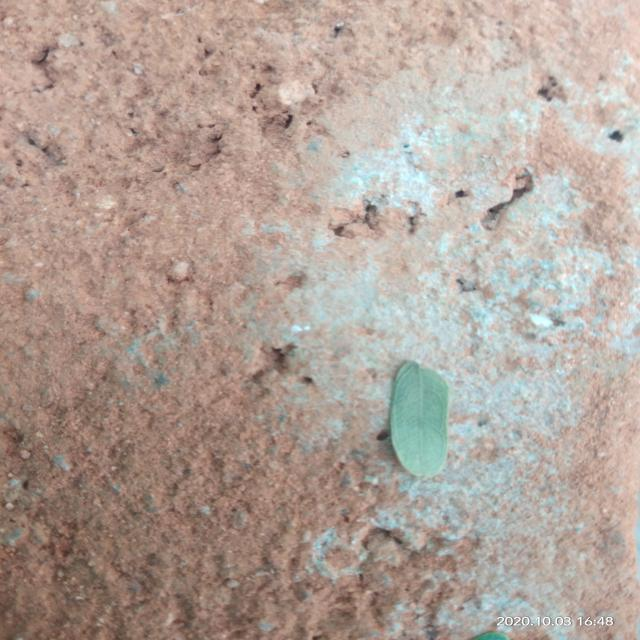tamarind: (390, 361, 450, 478)
